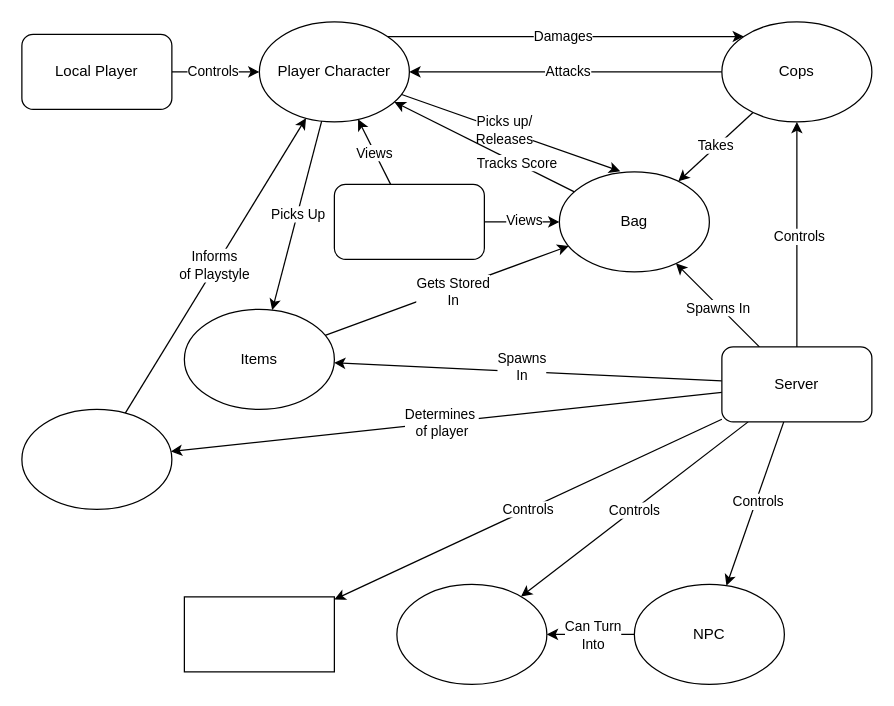
Some shapes in this 894 by 706 pixel diagram are drawn without their labels. The centre of each missing label's shape, as x and y in pixels:
"Client" belongs at pixel 408 221.
"Hero" belongs at pixel 471 633.
"Informant Status" belongs at pixel 96 458.
"Timer" belongs at pixel 258 634.
